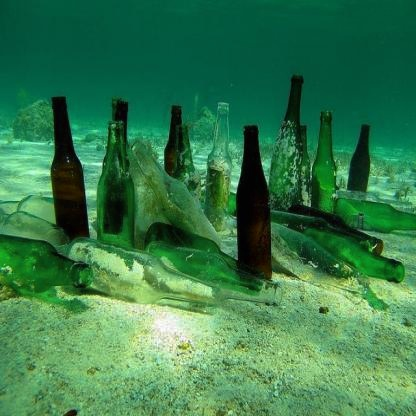gbottle: (66, 235, 220, 308), (271, 213, 406, 286), (145, 224, 264, 293), (52, 96, 90, 252), (1, 235, 93, 298), (237, 126, 273, 280), (99, 120, 136, 267), (269, 75, 306, 218), (207, 101, 232, 234), (335, 197, 416, 236), (312, 112, 338, 220)
